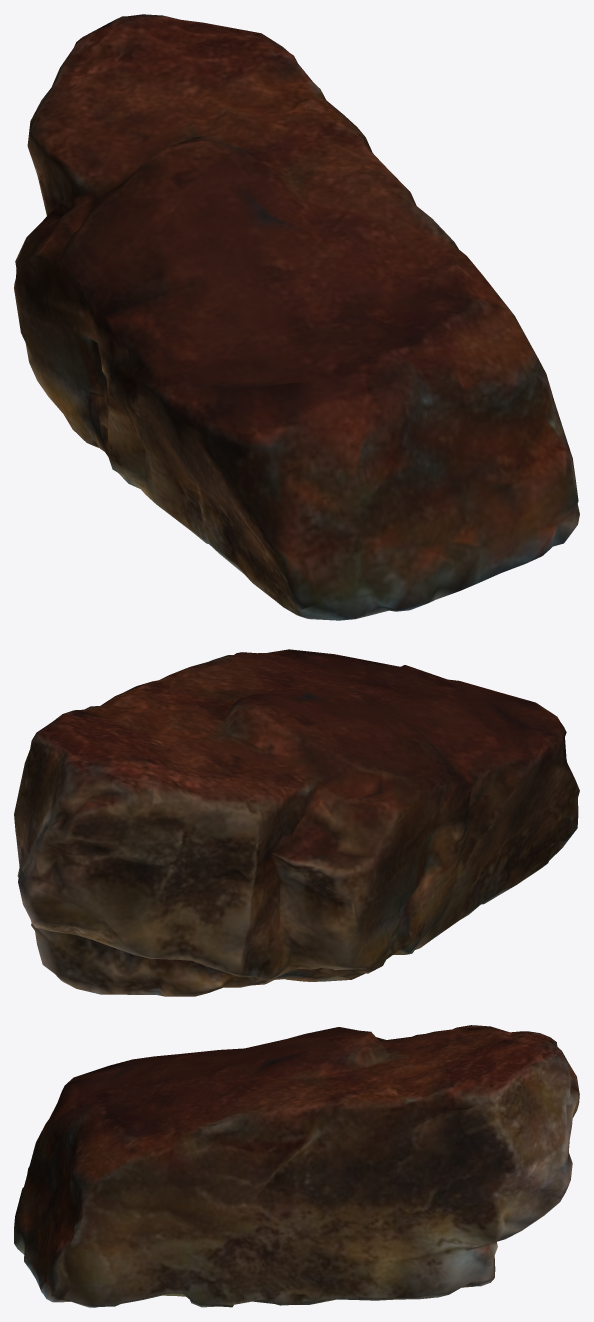
The model's file is rock_07.glb.
3 renders of one model, top to bottom at view 1: azimuth 30°, elevation 25°; view 2: azimuth 150°, elevation 25°; view 3: azimuth 270°, elevation 25°, orthographic. The views are drawn at different scales.
Size of the model in its own units: 0.1681 by 0.1437 by 0.3199.
Materials: 1 (1 with a texture image).
